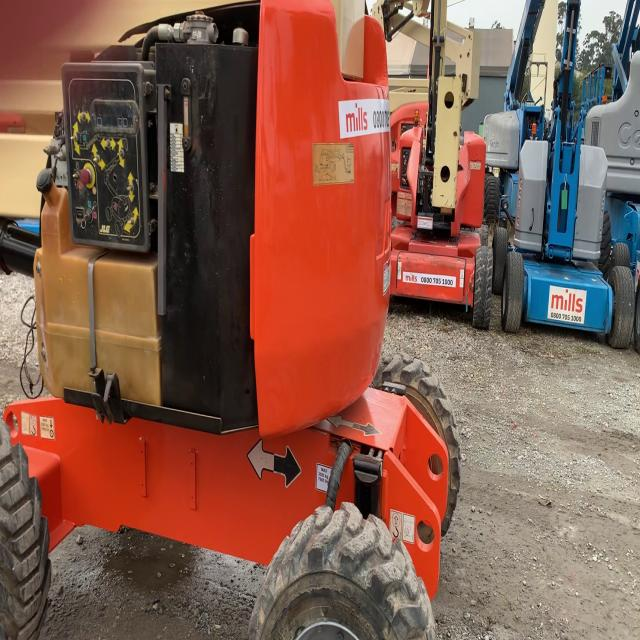Adesivo Longo: (402, 271, 456, 289)
Adesivos: (547, 284, 587, 325)
